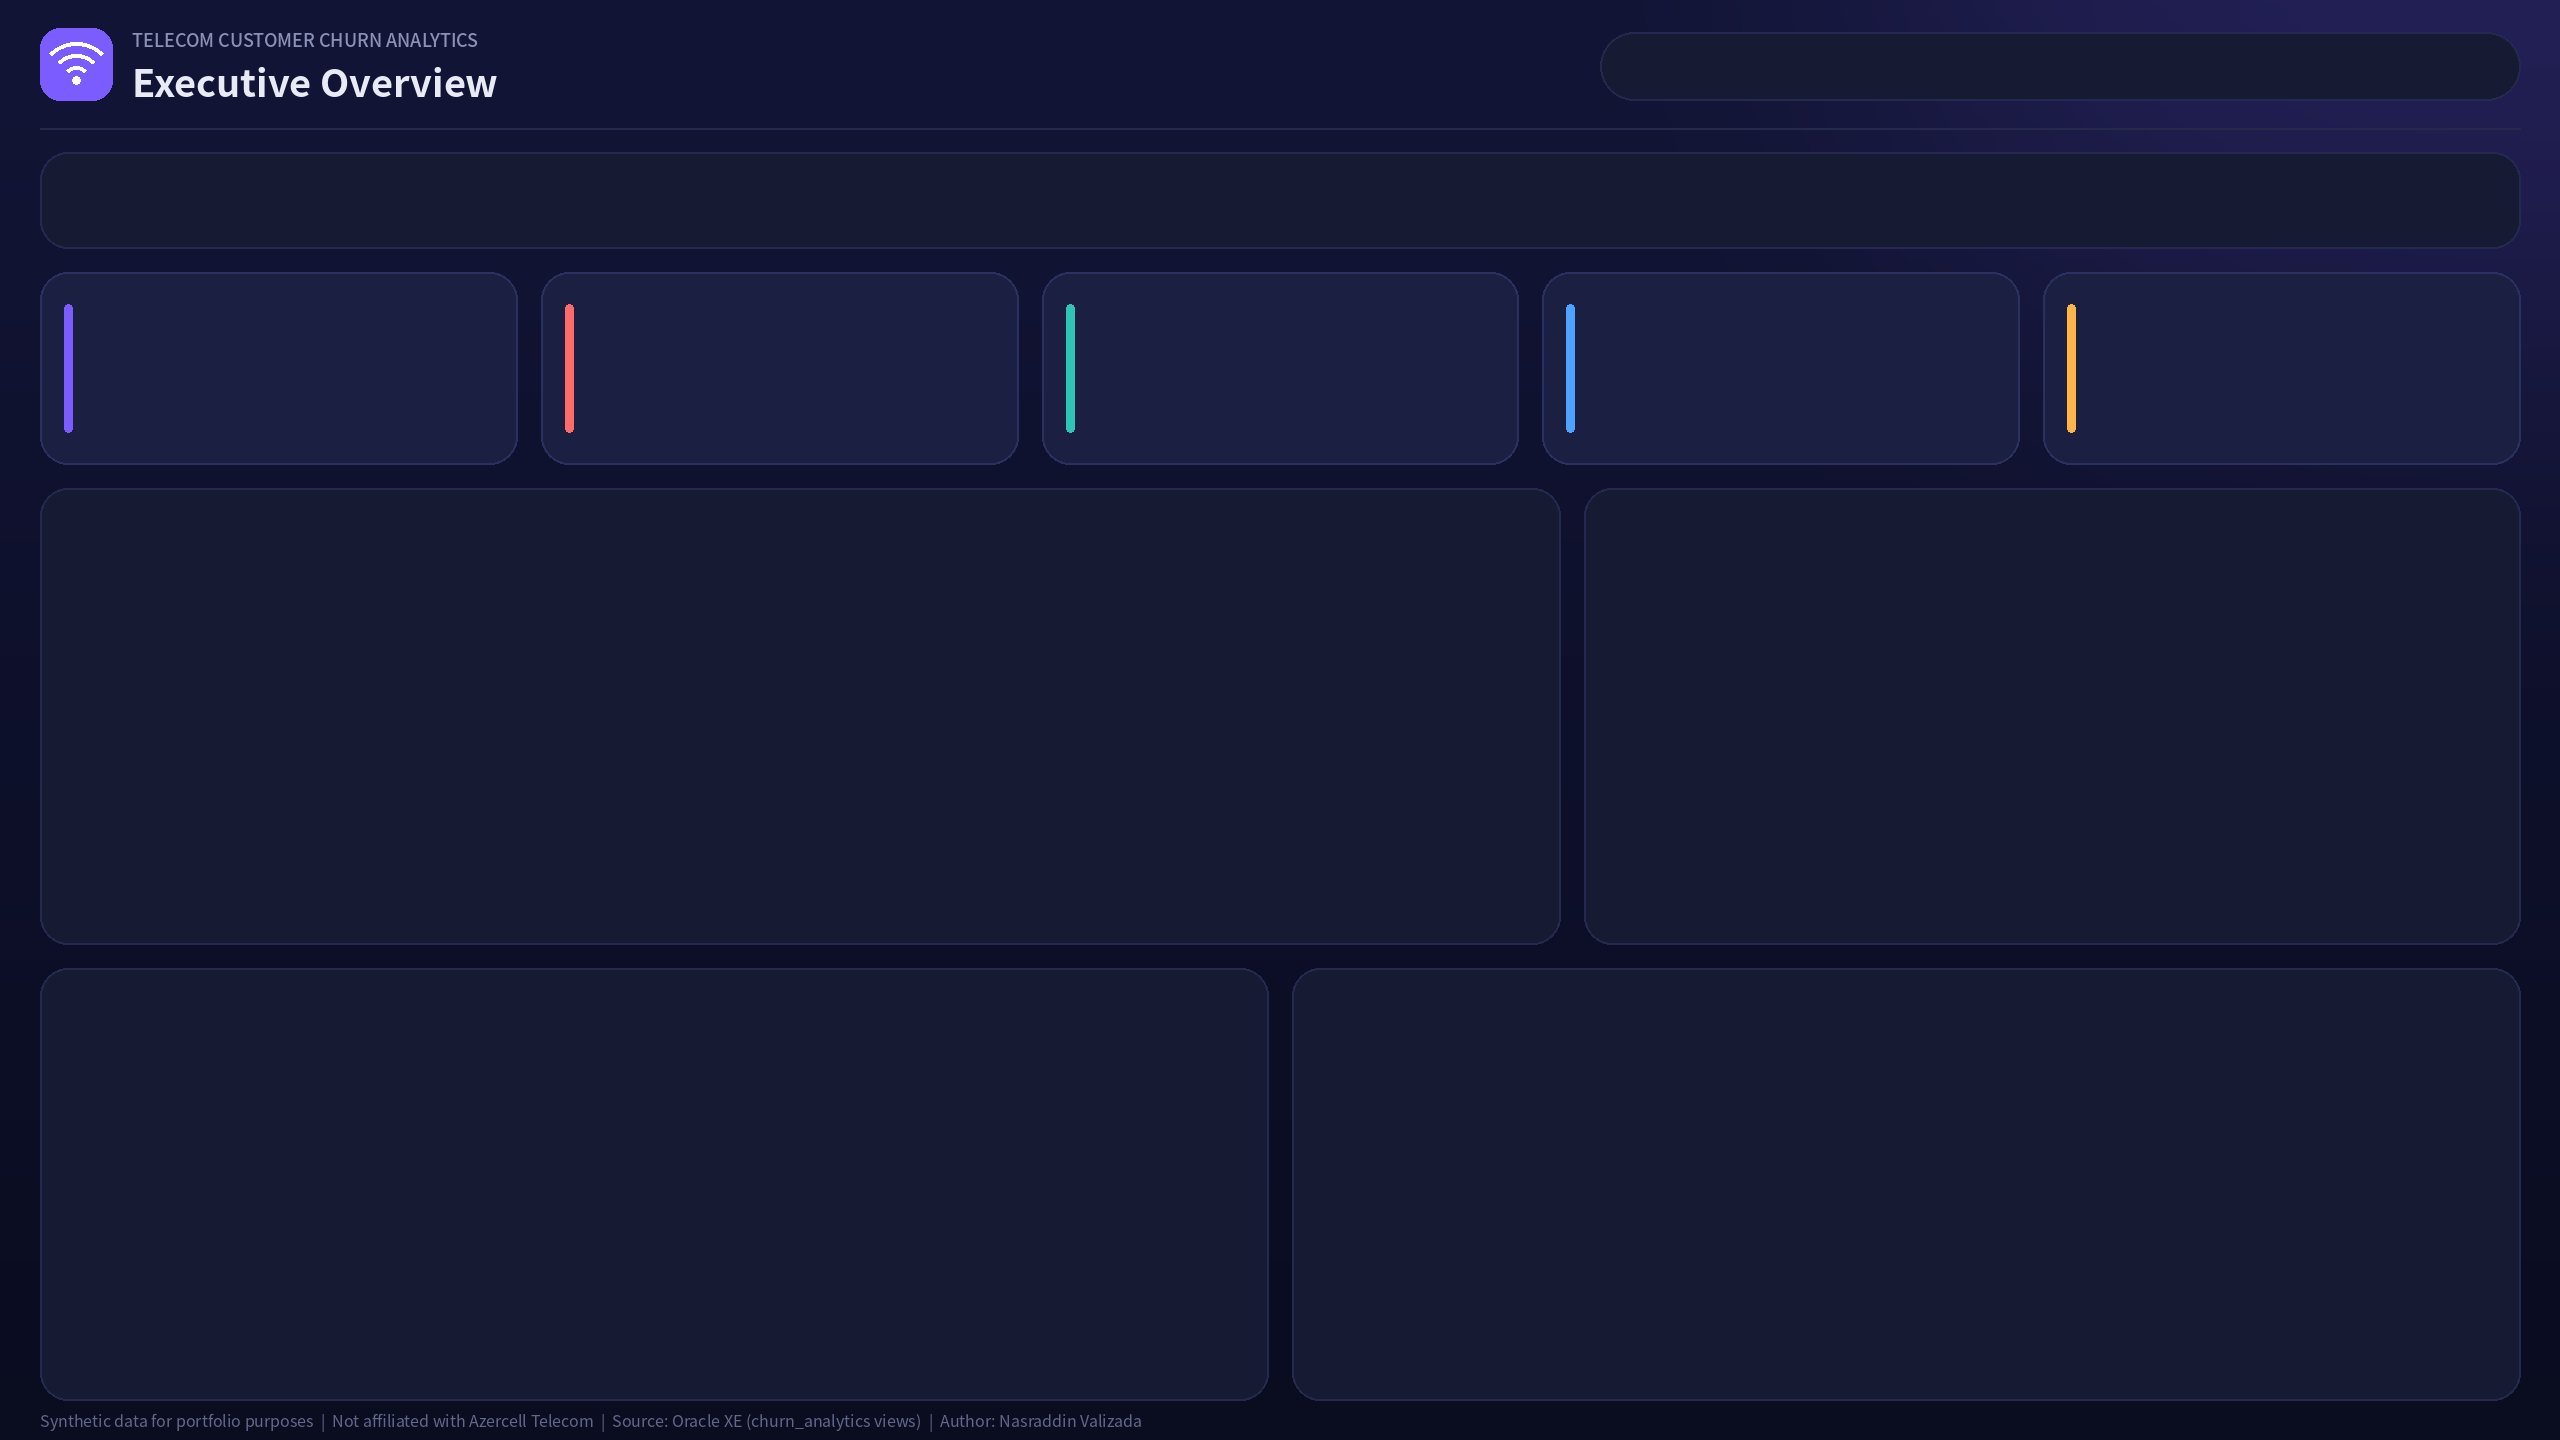

The dashboard page shown, as its layout file describes it:
{"tool":"powerbi","page":{"name":"Executive Overview","canvas":[1280,720],"ordinal":0},"visuals":[{"type":"advanceCardE03760C5AB684758B56AA29F9E6C257B","fields":{"mainMeasure":["_Measures.Active Subscribers"]},"box":[43.9,137.2,200.3,93.3],"z":0},{"type":"advanceCardE03760C5AB684758B56AA29F9E6C257B","fields":{"mainMeasure":["_Measures.Monthly Churn Rate"]},"box":[296.4,137.2,200.3,93.3],"z":1000},{"type":"advanceCardE03760C5AB684758B56AA29F9E6C257B","fields":{"mainMeasure":["_Measures.Net Adds"]},"box":[557.1,137.2,185.2,93.3],"z":2000},{"type":"advanceCardE03760C5AB684758B56AA29F9E6C257B","fields":{"mainMeasure":["_Measures.Revenue"]},"box":[801.4,144.1,196.2,86.4],"z":3000},{"type":"advanceCardE03760C5AB684758B56AA29F9E6C257B","fields":{"mainMeasure":["_Measures.ARPU"]},"box":[1053.9,144.1,171.5,86.4],"z":4000},{"type":"slicer","fields":{"Values":["DimDate.Year"]},"box":[28,77,200.5,46],"z":5000},{"type":"slicer","fields":{"Values":["DimDate.Month Year"]},"box":[243.7,77.2,208,46],"z":6000},{"type":"lineChart","title":"Prepaid churn doubled after the July 2025 price increase","fields":{"Category":["DimDate.Month Start"],"Series":["DimPlanType.Plan Type"],"Y":["_Measures.Monthly Churn Rate"]},"box":[28,252,744,212],"z":7000},{"type":"clusteredColumnChart","title":"New vs churned subscribers per month","fields":{"Category":["DimDate.Month Start"],"Y":["_Measures.New Customers","_Measures.Churned Customers"]},"box":[800,252,452,212],"z":8000},{"type":"slicer","fields":{"Values":["DimPlanType.Plan Type"]},"box":[932.6,82,319.7,37.4],"z":9000},{"type":"slicer","fields":{"Values":["DimChannel.Channel"]},"box":[468.1,77.2,208,46],"z":10000},{"type":"slicer","fields":{"Values":["DimCity.City"]},"box":[696.1,77.2,208,46],"z":11000},{"type":"lineClusteredColumnComboChart","title":"Prepaid ARPU jumped 20% in July 2025","fields":{"Category":["DimDate.Month Year"],"Y":["_Measures.Revenue"],"Y2":["_Measures.ARPU"]},"box":[28,492,598,200],"z":12000},{"type":"clusteredBarChart","title":"Why customers leave (share of churners)","fields":{"Category":["FactCustomer.CHURN_REASON"],"Y":["_Measures.Share of Churners"]},"box":[654.3,478.9,584.4,240.9],"z":13000},{"type":"pageNavigator","box":[805.5,17.8,448.7,32.9],"z":14000}]}

Visuals, with their boxes in screenshot pixels (x1, y1, x2, y2), scaled from the page's 1280x720 canvas onto the 2560x1440 screenshot:
advanceCardE03760C5AB684758B56AA29F9E6C257B - _Measures.Active Subscribers: Rect(88, 274, 488, 461)
advanceCardE03760C5AB684758B56AA29F9E6C257B - _Measures.Monthly Churn Rate: Rect(593, 274, 993, 461)
advanceCardE03760C5AB684758B56AA29F9E6C257B - _Measures.Net Adds: Rect(1114, 274, 1485, 461)
advanceCardE03760C5AB684758B56AA29F9E6C257B - _Measures.Revenue: Rect(1603, 288, 1995, 461)
advanceCardE03760C5AB684758B56AA29F9E6C257B - _Measures.ARPU: Rect(2108, 288, 2451, 461)
slicer - DimDate.Year: Rect(56, 154, 457, 246)
slicer - DimDate.Month Year: Rect(487, 154, 903, 246)
"Prepaid churn doubled after the July 2025 price increase" lineChart: Rect(56, 504, 1544, 928)
"New vs churned subscribers per month" clusteredColumnChart: Rect(1600, 504, 2504, 928)
slicer - DimPlanType.Plan Type: Rect(1865, 164, 2505, 239)
slicer - DimChannel.Channel: Rect(936, 154, 1352, 246)
slicer - DimCity.City: Rect(1392, 154, 1808, 246)
"Prepaid ARPU jumped 20% in July 2025" lineClusteredColumnComboChart: Rect(56, 984, 1252, 1384)
"Why customers leave (share of churners)" clusteredBarChart: Rect(1309, 958, 2477, 1439)
pageNavigator: Rect(1611, 36, 2508, 101)
